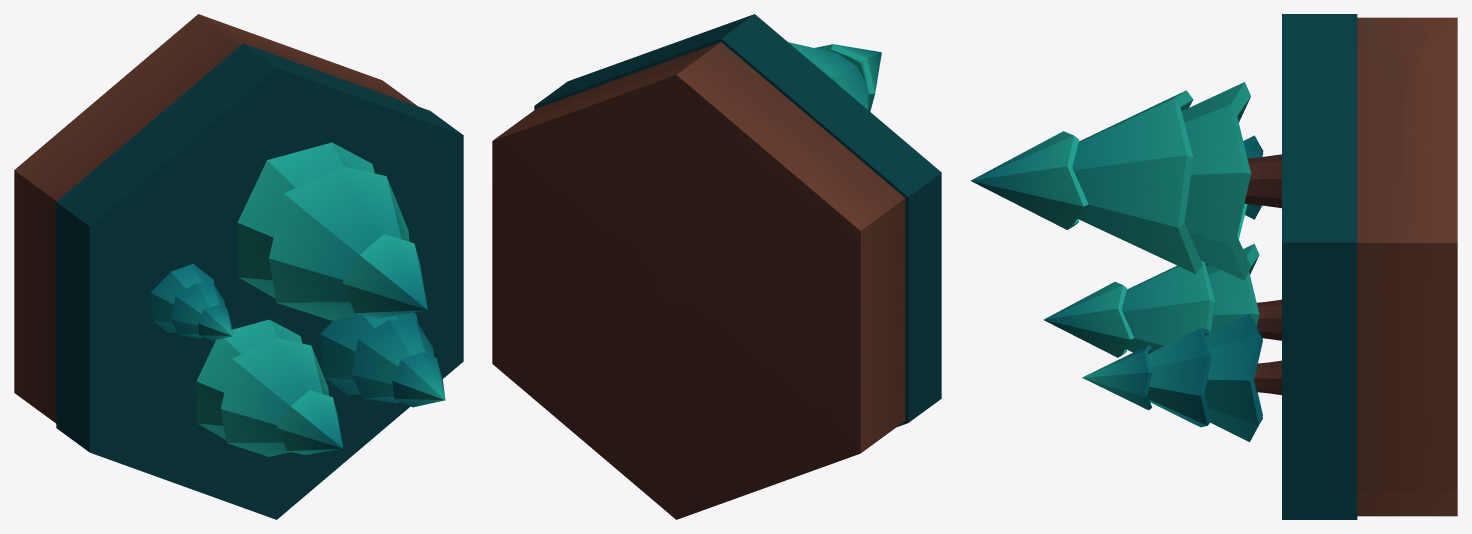
Rendered from NADELWALD_S.fbx.
3 views of the same model, side by side, from view 1: azimuth 30°, elevation 25°; view 2: azimuth 150°, elevation 25°; view 3: azimuth 270°, elevation 25° (orthographic). The views are drawn at different scales.
Visible parts, largest first — view 1: NADELWALD_S; view 2: NADELWALD_S; view 3: NADELWALD_S.
Boxes of the visible parts, left/top/right/bottom form: NADELWALD_S: left=14, top=14, right=463, bottom=519; NADELWALD_S: left=492, top=14, right=941, bottom=519; NADELWALD_S: left=970, top=14, right=1457, bottom=519.
Size of the model in its own units: 172 by 199 by 174.
